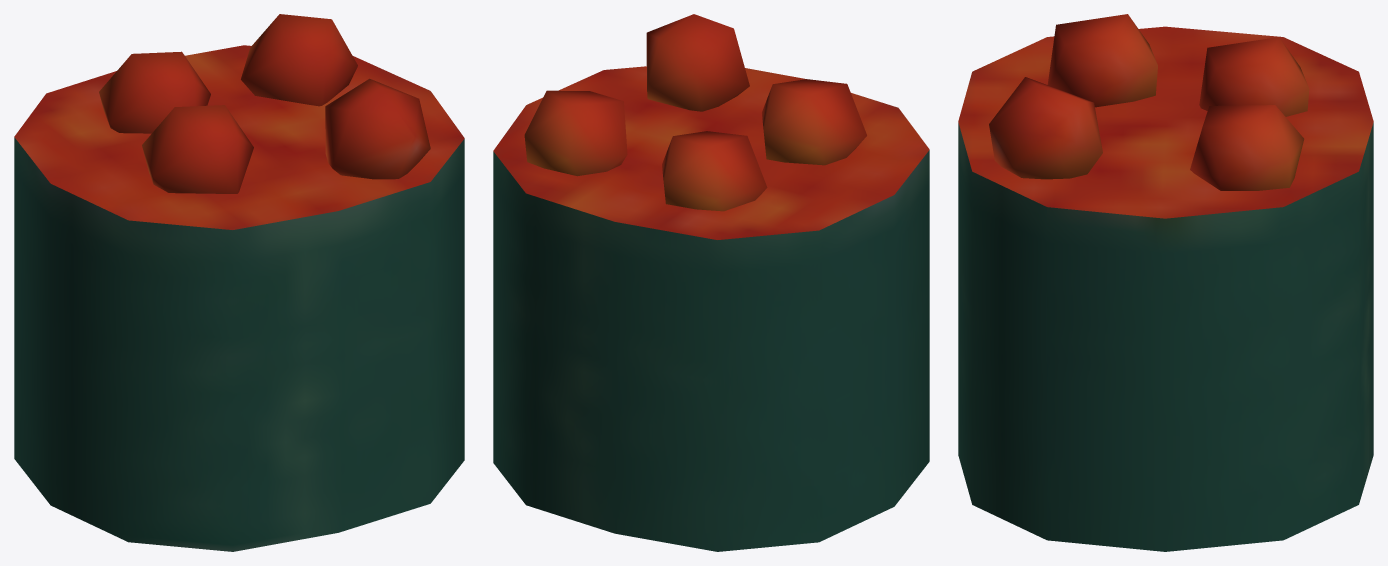
The model's file is SushisRoundEgg.glb.
3 renders of one model, left to right at view 1: azimuth 30°, elevation 25°; view 2: azimuth 150°, elevation 25°; view 3: azimuth 270°, elevation 25°, orthographic. The views are drawn at different scales.
Visible parts, largest first — view 1: geometry_0; view 2: geometry_0; view 3: geometry_0.
Part boxes in pixels (<box>): geometry_0: <box>14,14,464,551</box>; geometry_0: <box>493,14,929,551</box>; geometry_0: <box>958,14,1373,551</box>.
Size of the model in its own units: 0.1641 by 0.164 by 0.15.
1 material, 1 textured.
